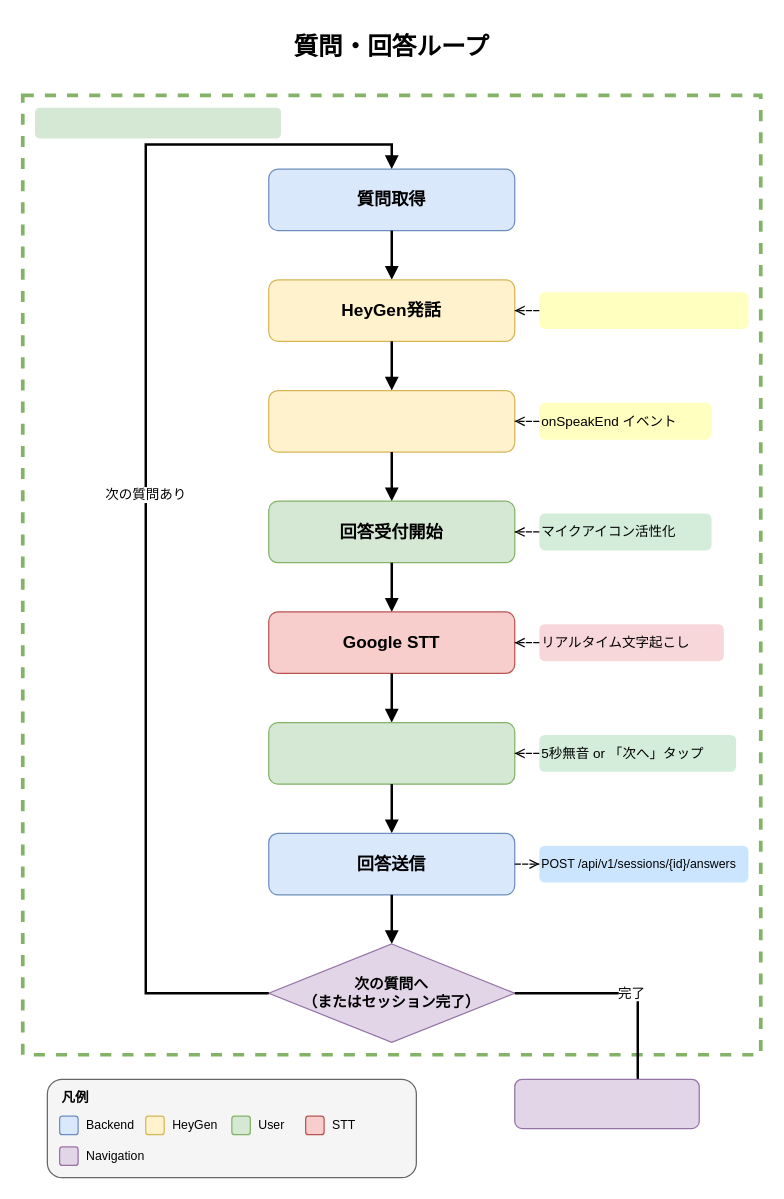
The diagram is 784 pixels wide and 1199 high, and some of its shapes have lost their labels. Each missing label, with the centre of its shape:
avatar.speak(質問テキスト): the point at 643,310
loop [各質問に対して繰り返し]: the point at 157,122
フィードバック画面へ: the point at 606,1103
回答完了: the point at 391,752
発話完了待ち: the point at 391,420
